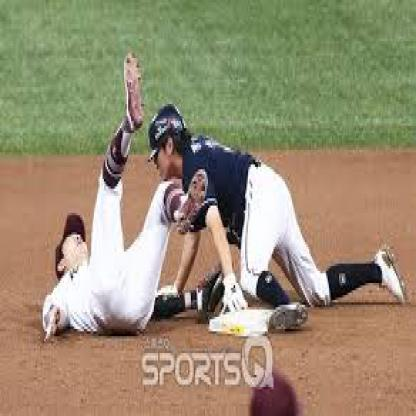Fall_Down: (41, 52, 210, 346)
